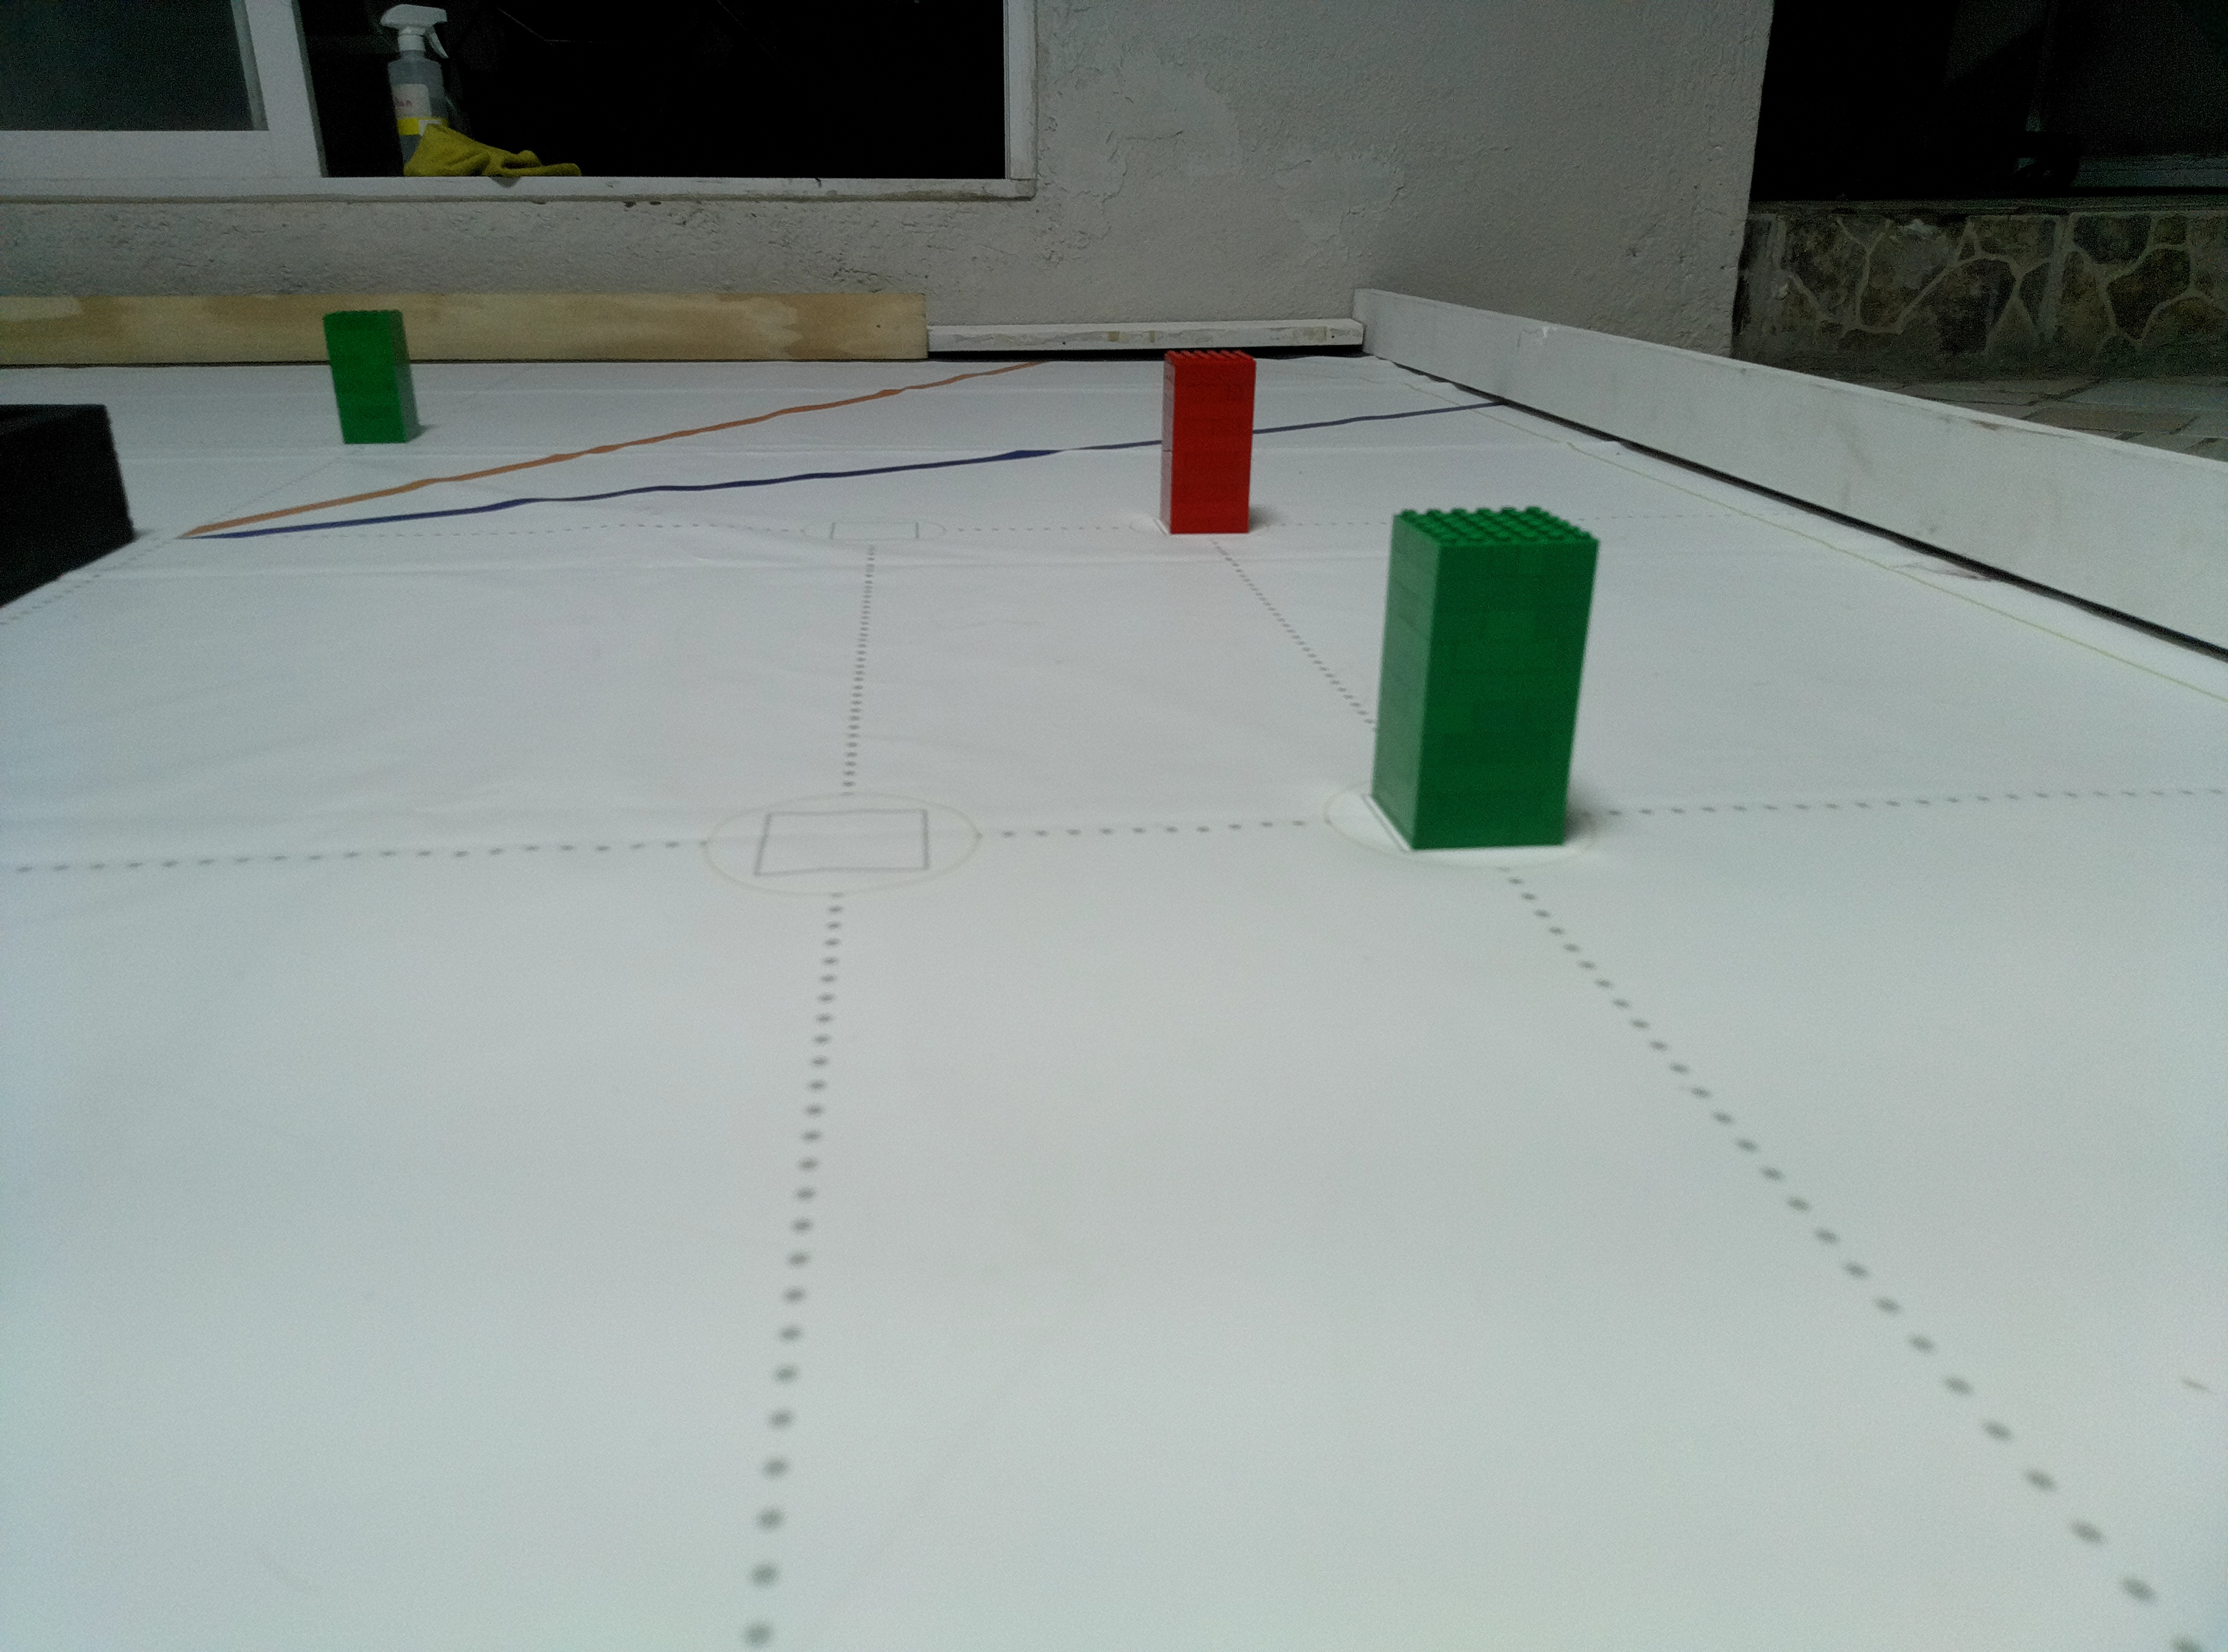greenbox: (1364, 505, 1609, 847), (321, 307, 423, 449)
redbox: (1159, 344, 1261, 538)
